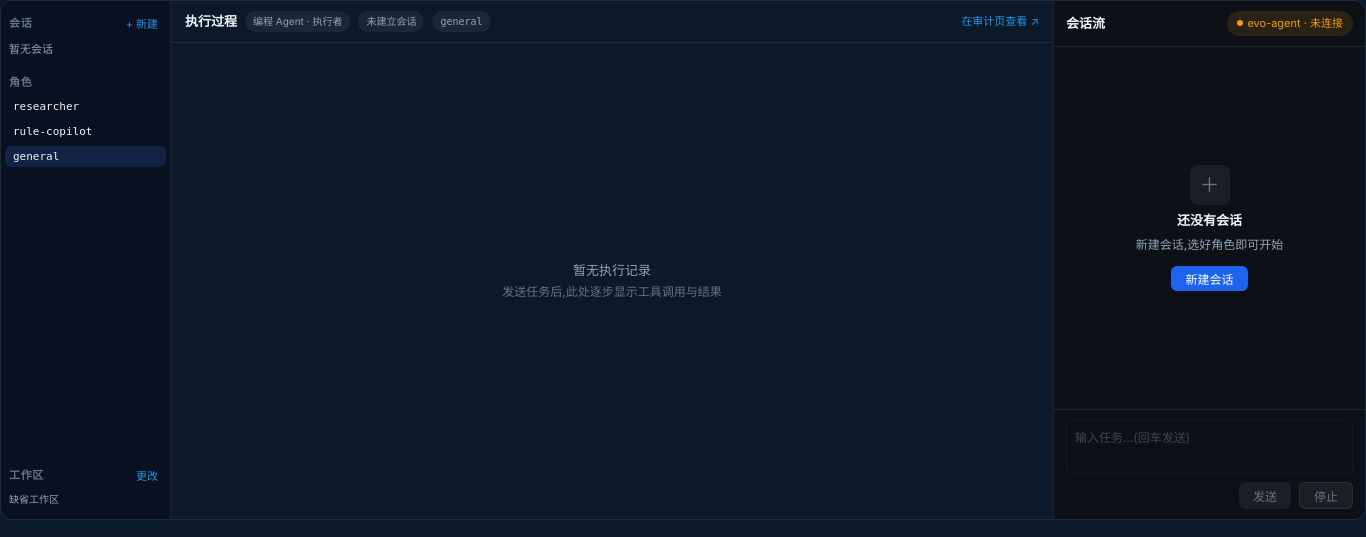
Test: AgentWorkspace — 三栏骨架 › P1 固定角色三枚(researcher/rule-copilot/general),点击切换选中态并同步中栏徽标
The image size is (1366, 537).
Click the button with class "role-item" showing "researcher" at (86, 106), box x1=5 y1=96 x2=166 y2=117
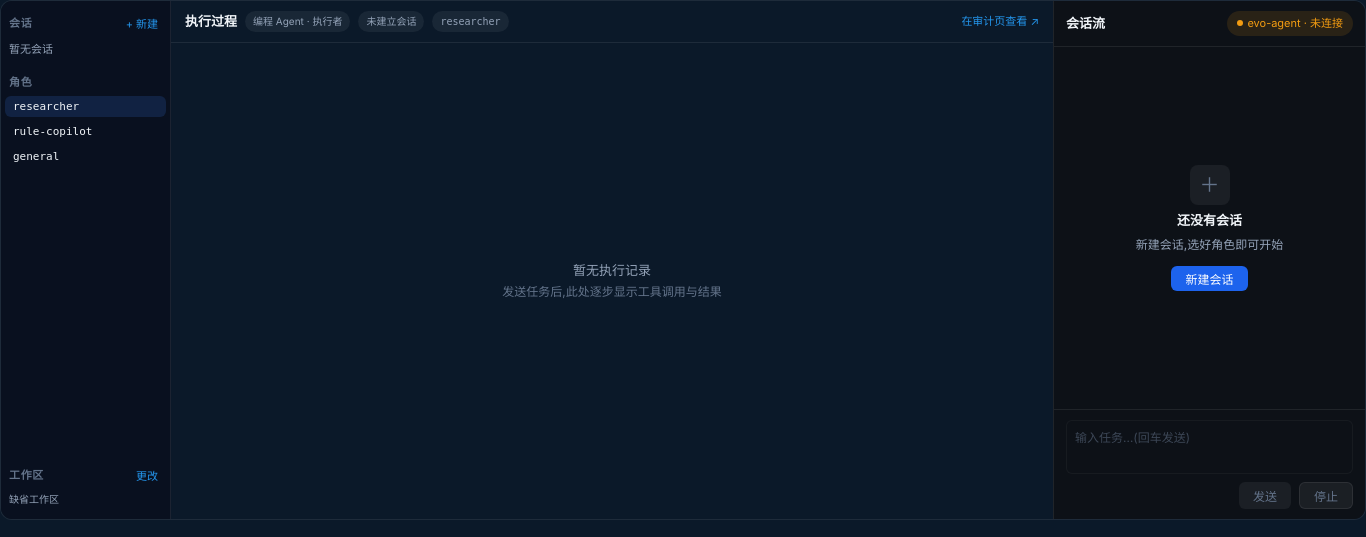
Expected: the number of elements with class "mono" is 2, x1=358 y1=11 x2=424 y2=32; x1=432 y1=11 x2=509 y2=32
Result: the text with class "mono" next to "未建立会话" reads "researcher" at x1=440 y1=16 x2=501 y2=27
